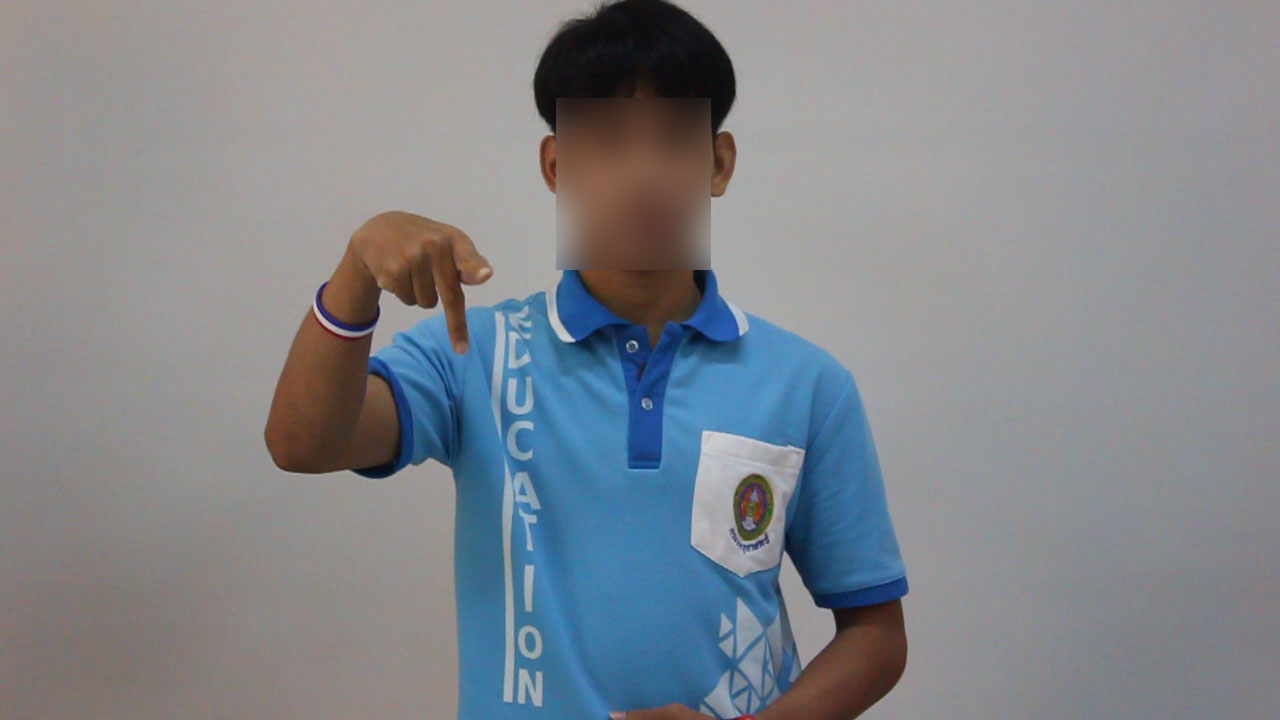por: (339, 182, 503, 366)
